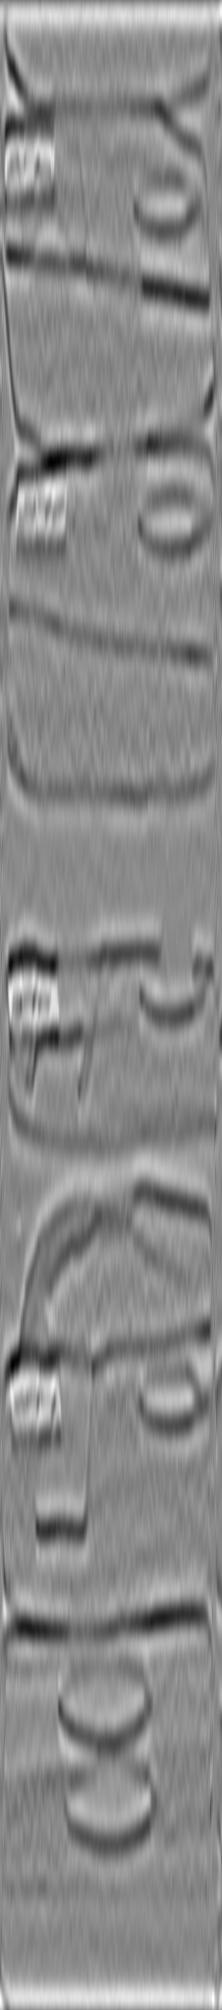hplug: (130, 1358, 210, 1441), (126, 162, 207, 238), (132, 483, 216, 556), (132, 954, 210, 1027)
scal: (56, 1756, 166, 1856), (55, 1654, 160, 1754)
vplug: (32, 1356, 103, 1546), (26, 958, 109, 1099), (17, 135, 98, 273)
